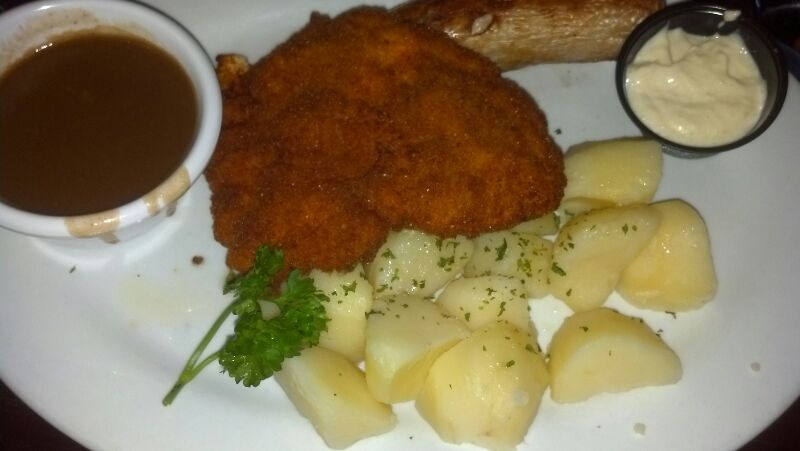boiled potatoes: (424, 332, 542, 446), (266, 340, 398, 438), (552, 208, 661, 306), (624, 202, 720, 313), (549, 308, 667, 398), (367, 296, 458, 398), (554, 133, 670, 208), (297, 270, 371, 354), (366, 236, 466, 298), (427, 276, 531, 333), (472, 231, 552, 299)
